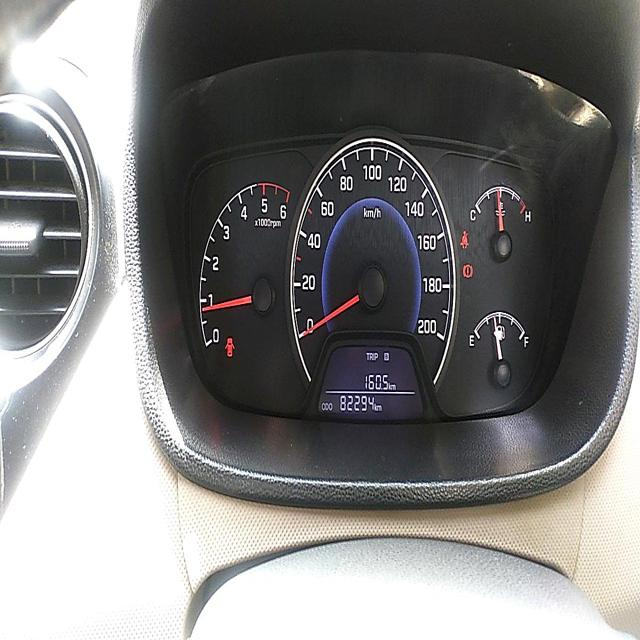odometer: (338, 393, 375, 413)
